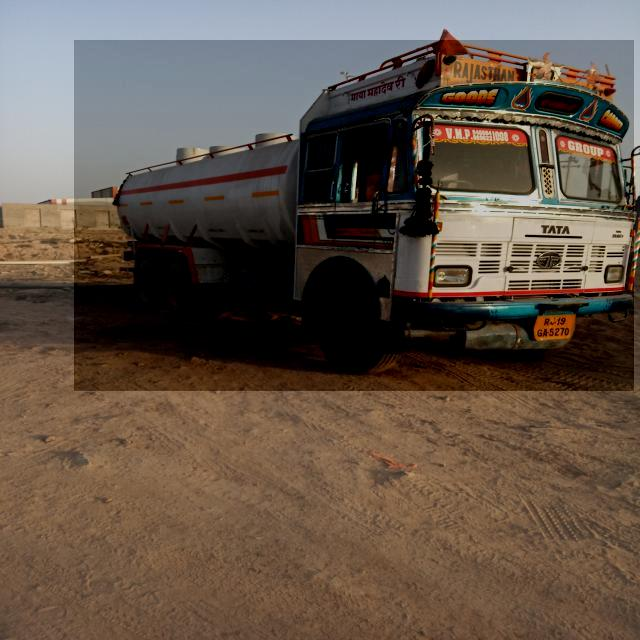Truck: (74, 40, 634, 391)
